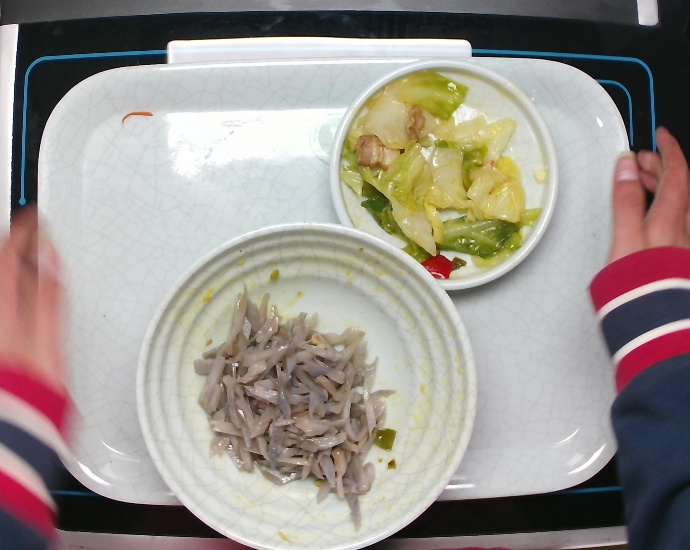JYsf-Da_Tang_Wan: (131, 219, 480, 550)
JYsf-Xiao_Yuan_Pan: (327, 56, 561, 293)
